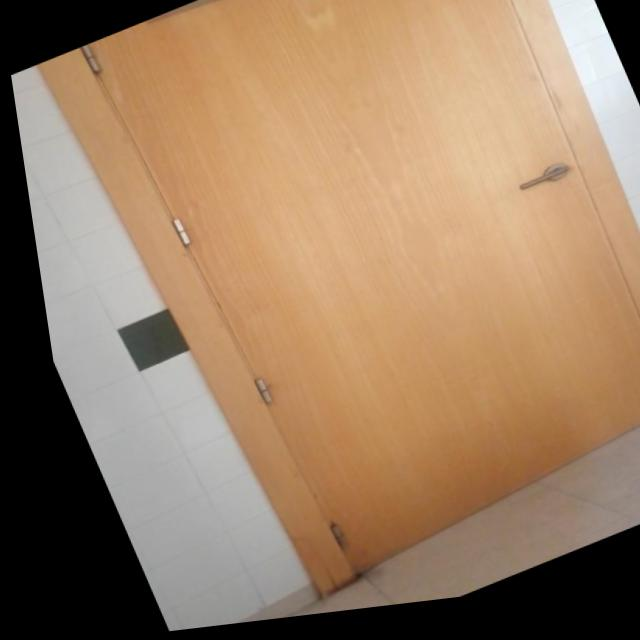door_handle: (502, 175, 569, 206)
